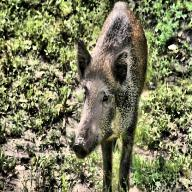boar: (71, 0, 148, 192)
